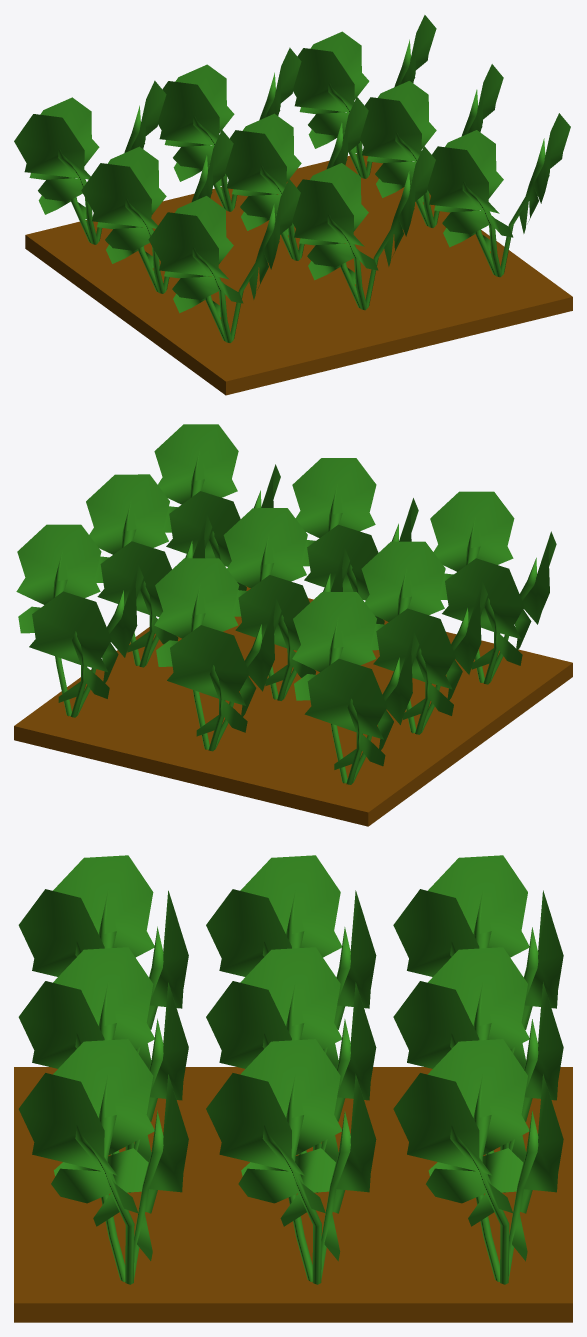
File: root-vegetables2.fbx
3 renders of one model, top to bottom at view 1: azimuth 30°, elevation 25°; view 2: azimuth 150°, elevation 25°; view 3: azimuth 270°, elevation 25°, orthographic. The views are drawn at different scales.
Parts seen in each view (by area): view 1: RadishAltST, 立方体; view 2: RadishAltST, 立方体; view 3: RadishAltST, 立方体.
Boxes of the visible parts, box(x1,y1,x2,y2) form: RadishAltST: box(14, 15, 570, 342); 立方体: box(25, 154, 572, 395); RadishAltST: box(16, 424, 556, 784); 立方体: box(14, 586, 572, 826); RadishAltST: box(18, 855, 563, 1284); 立方体: box(14, 1067, 572, 1322).
Bounding box in the file's own units: 149 × 62.44 × 127.
